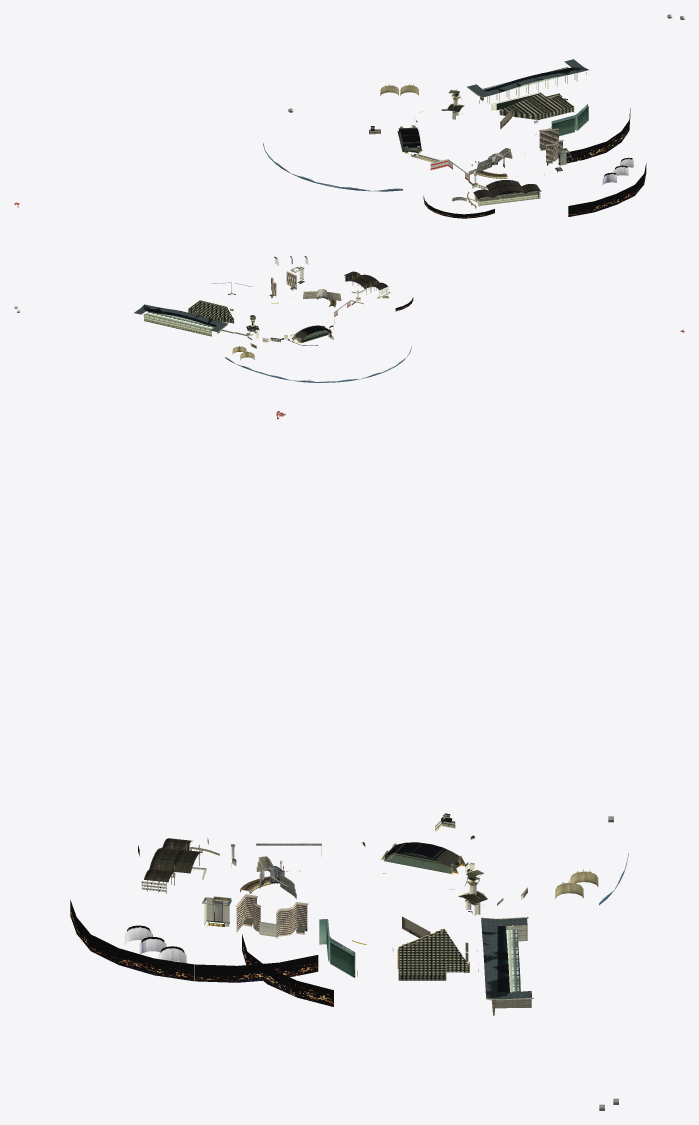
Rendered from track-B2_C2_V2_env.glb.
3 renders of one model, top to bottom at view 1: azimuth 30°, elevation 25°; view 2: azimuth 150°, elevation 25°; view 3: azimuth 270°, elevation 25°, orthographic. The views are drawn at different scales.
Visible parts, largest first — view 1: B2_C2_V2_env; view 2: B2_C2_V2_env; view 3: B2_C2_V2_env.
Part boxes in pixels (box(x1,y1,x2,y2)): B2_C2_V2_env: box(14, 14, 684, 218); B2_C2_V2_env: box(14, 256, 684, 382); B2_C2_V2_env: box(70, 411, 628, 1110).
Size of the model in its own units: 4799 by 508 by 1968.
Materials: 87 (86 with a texture image).
